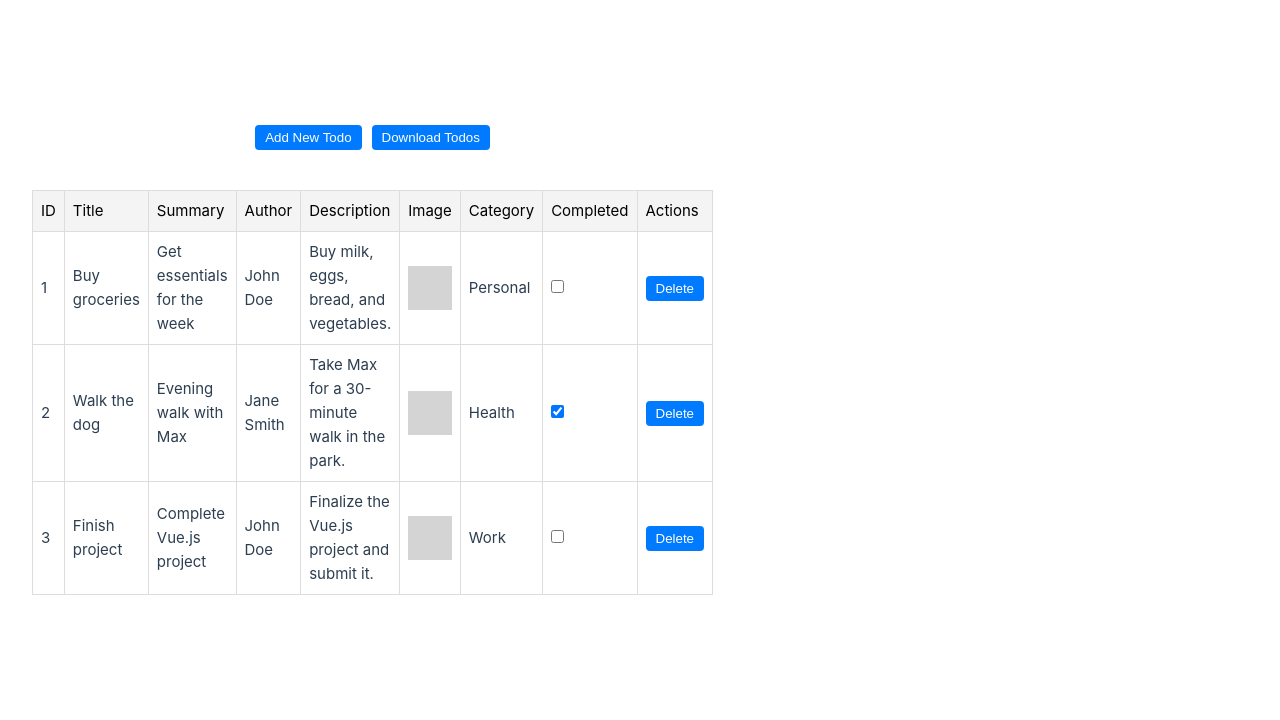
it: App.vue › opens the modal when "Add New Todo" button is clicked
This screenshot has width=1280, height=720.
Click the button "Add New Todo" at point(308, 138), box x1=255 y1=125 x2=362 y2=150
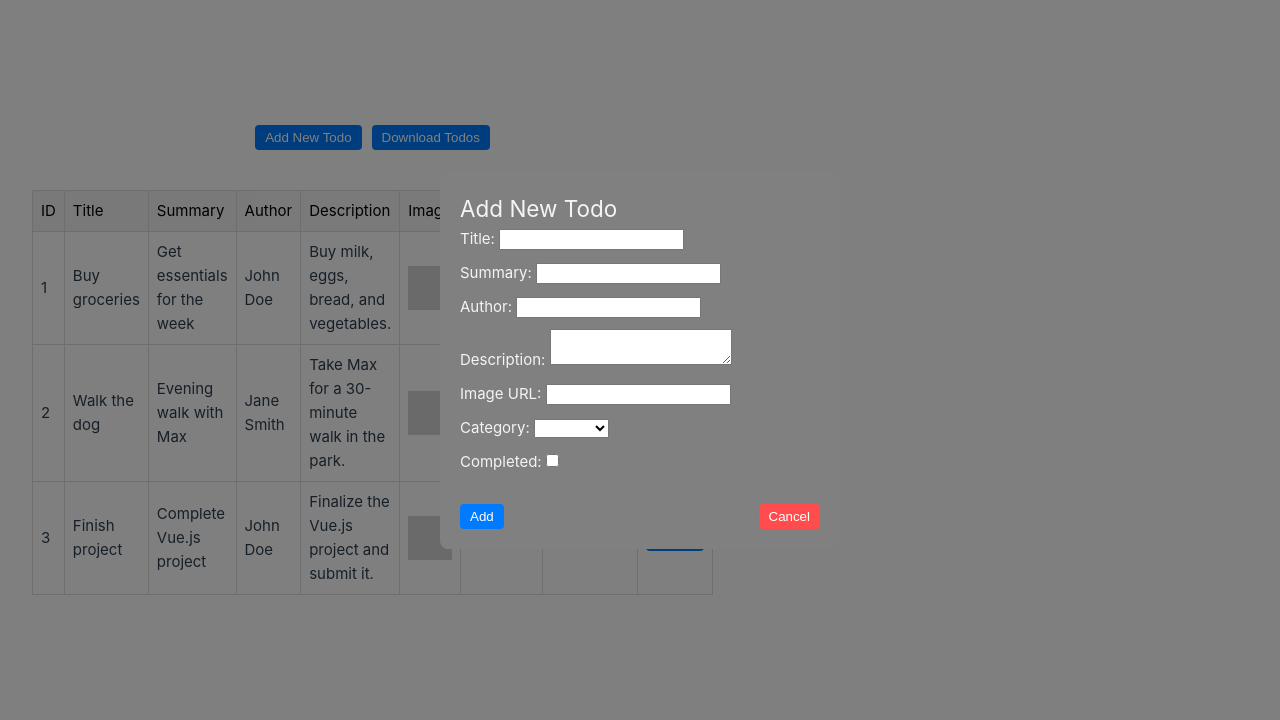
Now the element with class "modal" is shown
